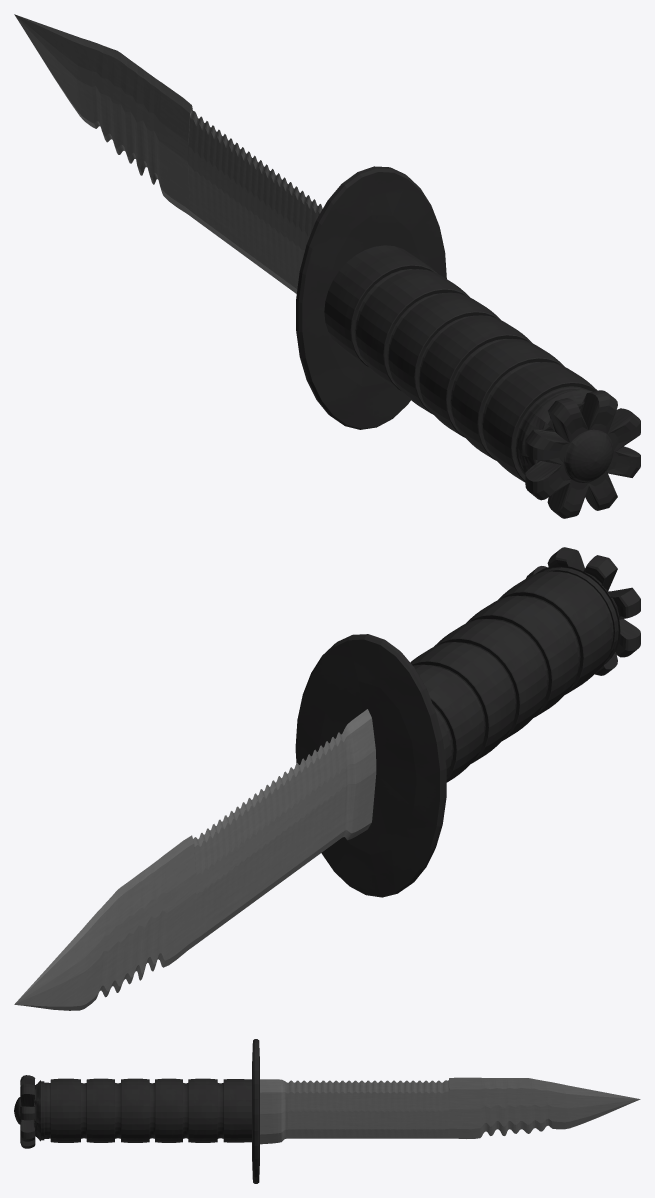
The model's file is knife-world.glb.
3 views of the same model, one above another, from view 1: azimuth 30°, elevation 25°; view 2: azimuth 150°, elevation 25°; view 3: azimuth 270°, elevation 25° (orthographic). The views are drawn at different scales.
Parts seen in each view (by area): view 1: Knife; view 2: Knife; view 3: Knife.
Boxes of the visible parts, bbox=[...] form: Knife: bbox=[14, 14, 640, 518]; Knife: bbox=[14, 547, 640, 1010]; Knife: bbox=[14, 1039, 640, 1183].
Bounding box in the file's own units: 0.0515 × 0.086 × 0.35.
Materials: 1 (1 with a texture image).
